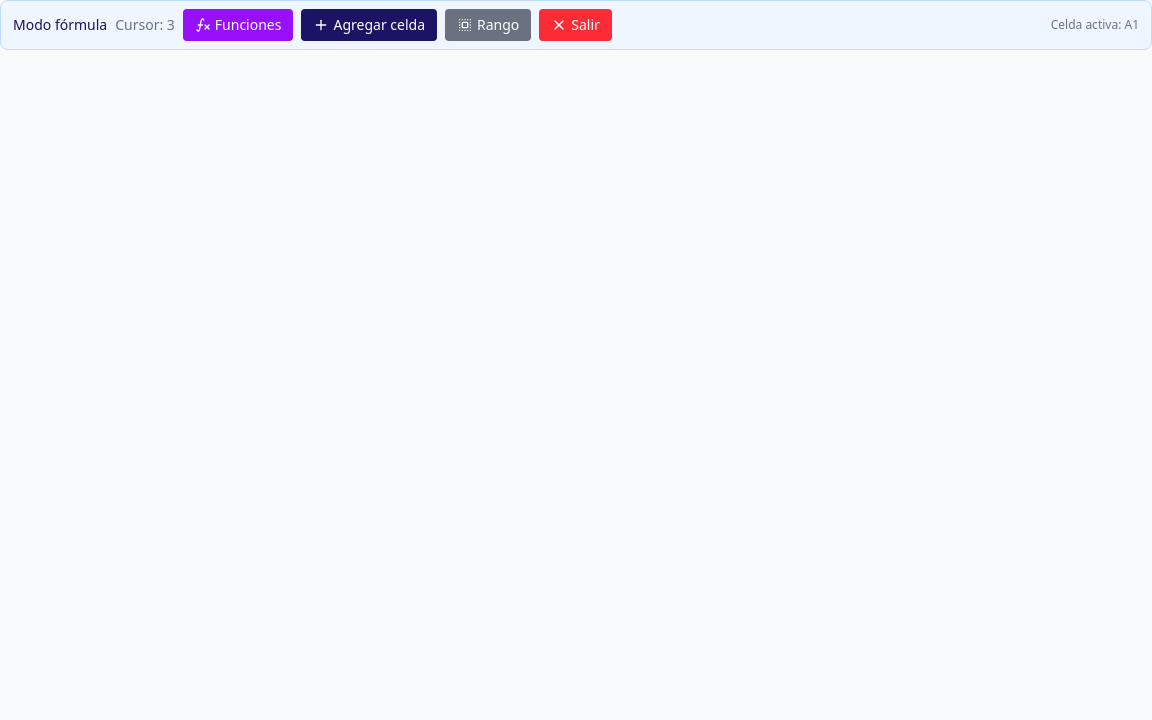
la barra del modo fórmula › ofrece solo las fórmulas de diseño del subtipo, no las incorporadas
Click the button "Funciones" at (238, 25), box [183,9,293,41]
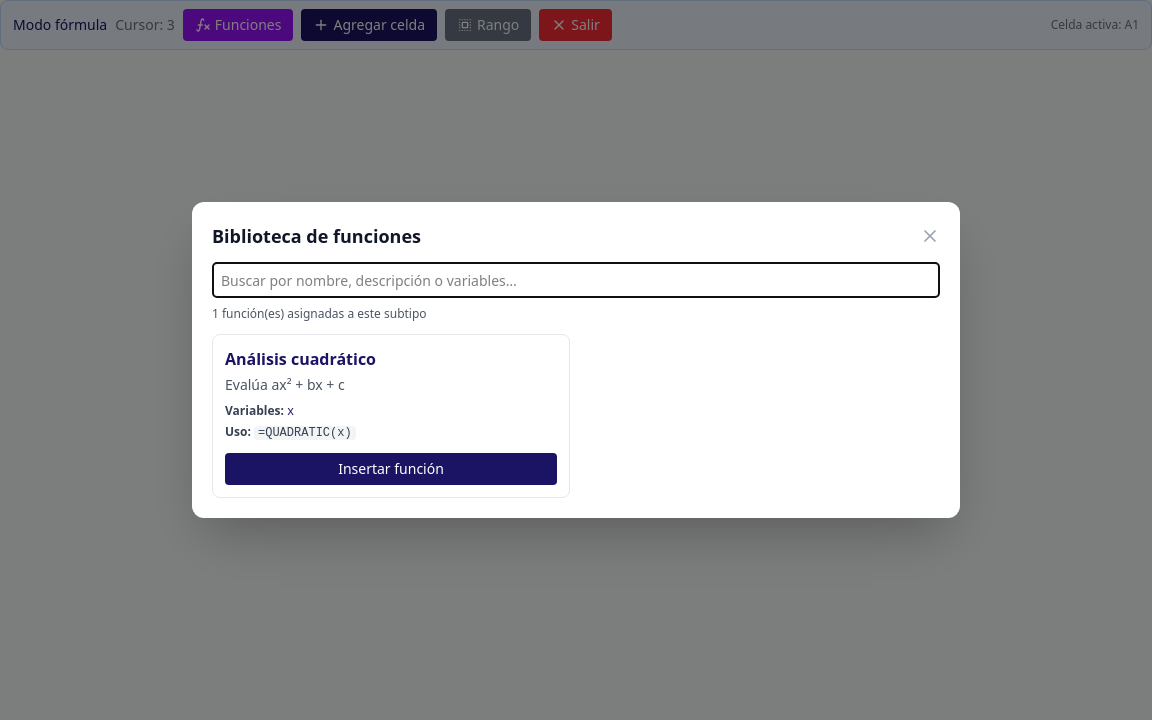
Check: the heading "Análisis cuadrático" is shown, box [225,348,376,370]
Check: the text "Evalúa ax² + bx + c" is shown, box [225,375,345,394]
